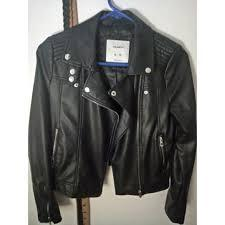jacket: (32, 13, 194, 221)
